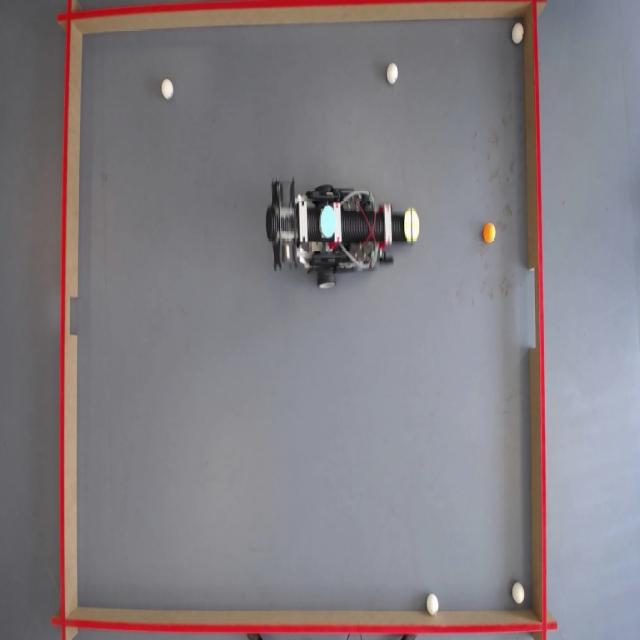orange: (484, 224, 498, 245)
robot: (265, 182, 418, 282)
robot-front: (405, 209, 422, 241)
robot-rear: (319, 203, 339, 240)
white: (513, 583, 527, 606), (512, 24, 526, 46), (426, 593, 440, 615), (163, 77, 176, 99), (387, 64, 399, 85)
